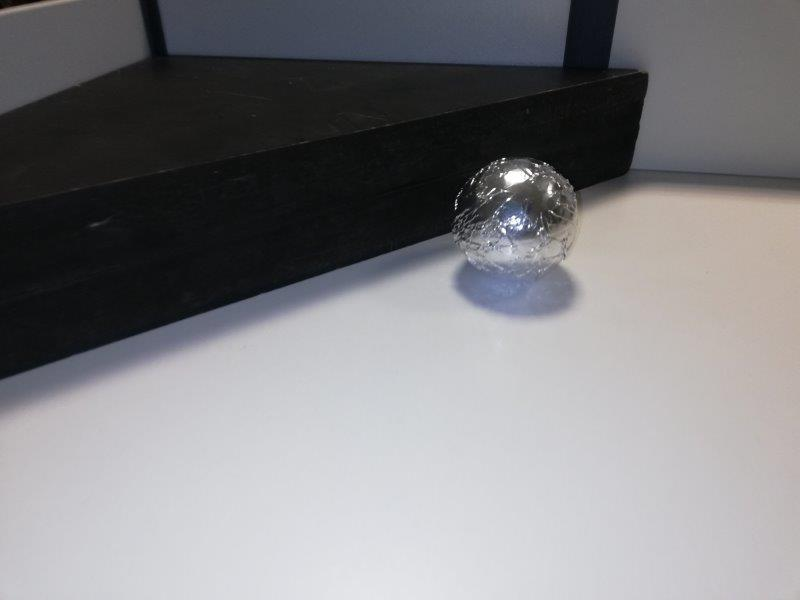bianca: (451, 155, 579, 272)
